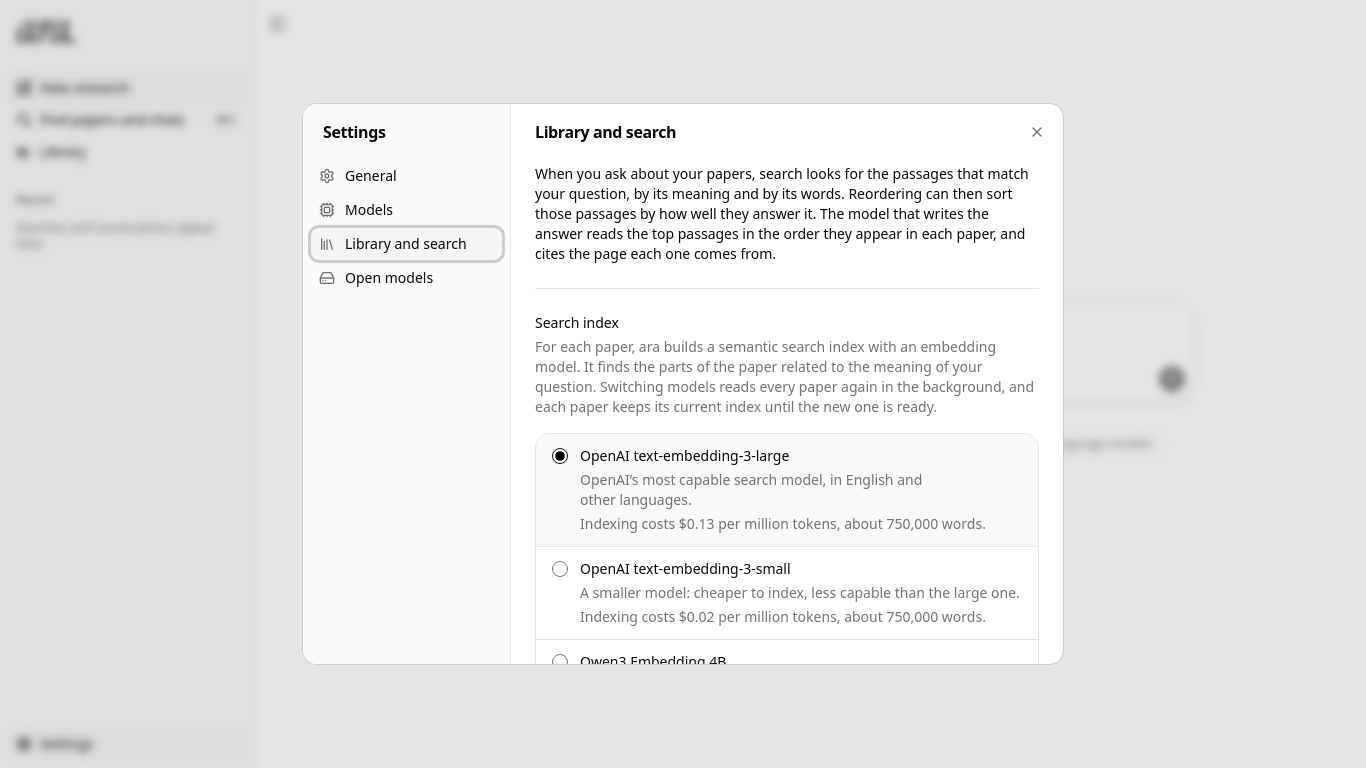
Scenario: Given Qwen 4B is not downloaded, Then its reason links to Open models and choosing it still asks first
The width and height of the screenshot is (1366, 768).
Click the radio button labelled "Qwen3 Embedding 4B": (560, 662) [552,654,568,670]
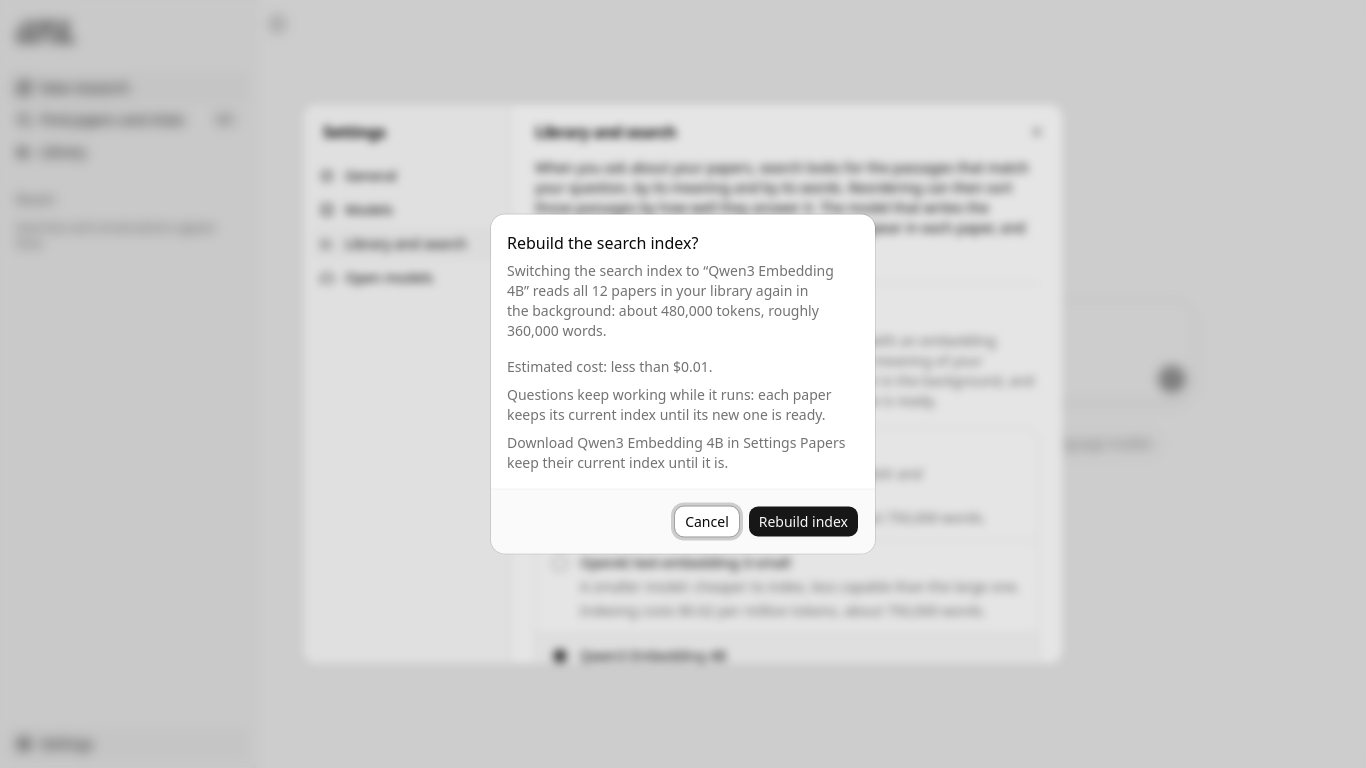
Result: the dialog "Rebuild the search index?" is shown at [491,214,875,554]
